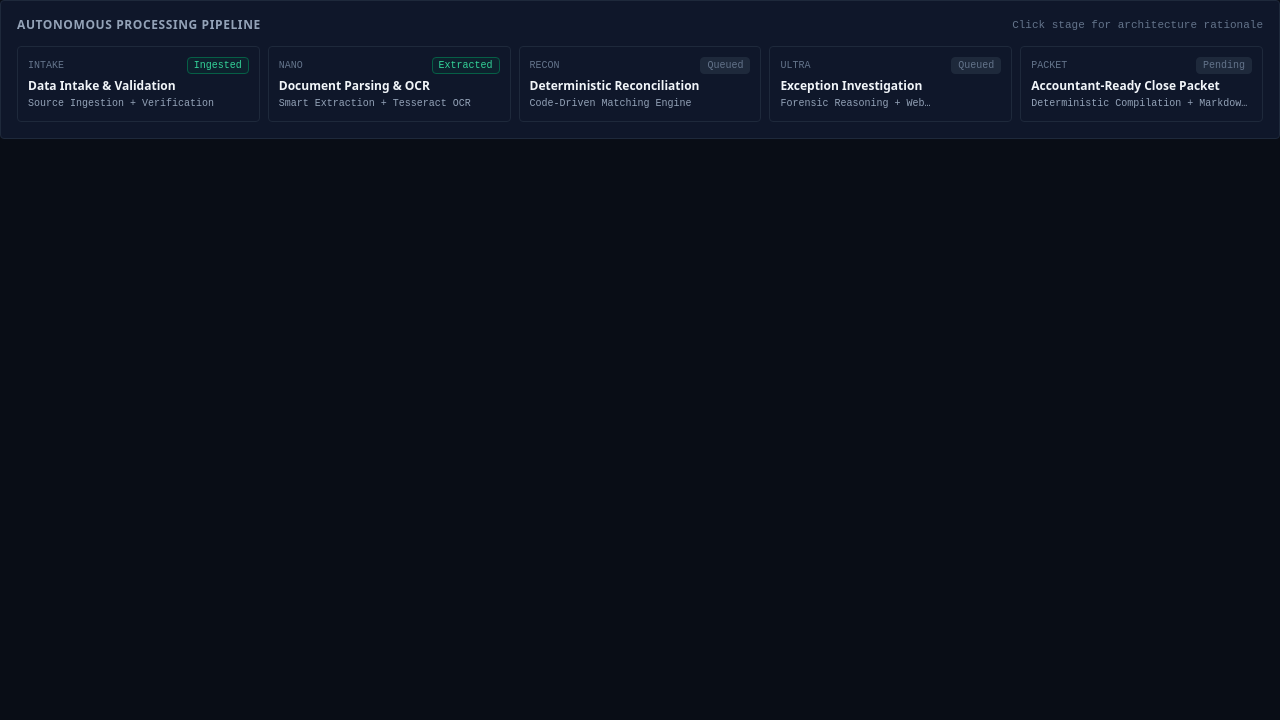
Test case: ProcessingPipeline Component › displays stage rationale when clicked
Click the button "Document Parsing" at coordinates (389, 84), box [268,46,511,122]
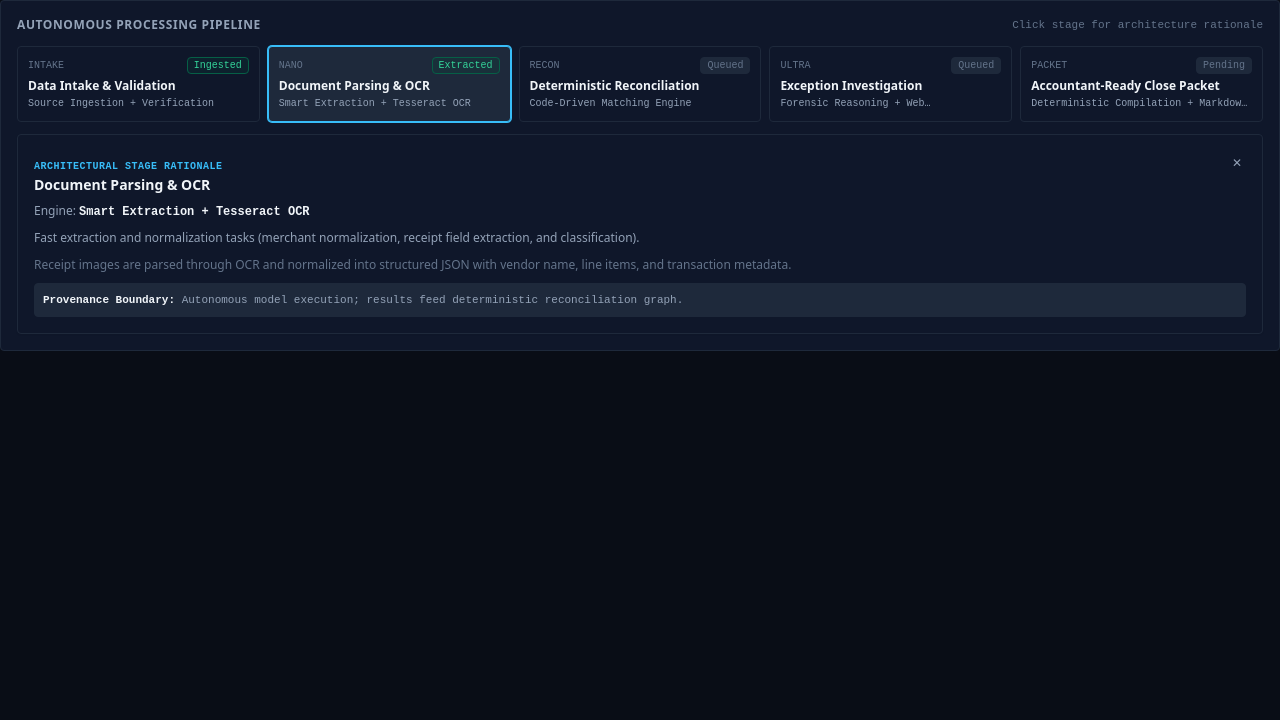
Check: the text "Architectural Stage Rationale" is shown, box [34,160,222,172]
Check: the text "merchant normalization" is shown, box [34,228,639,246]
